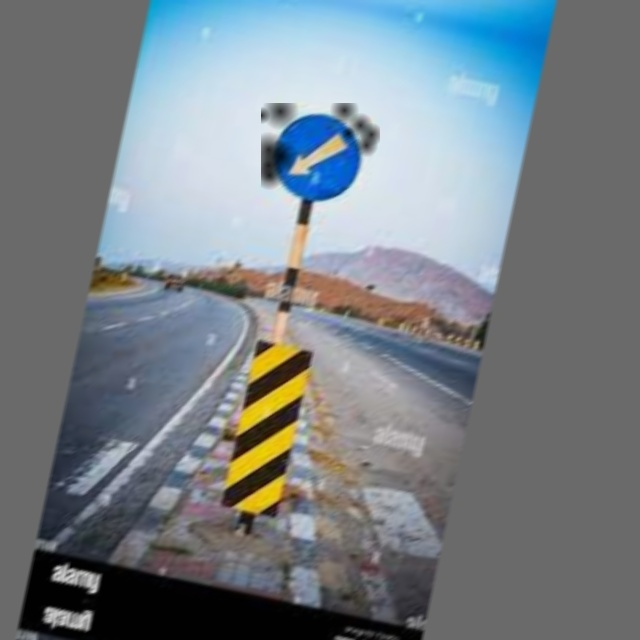Compulsory_Keep_Left: (261, 103, 380, 215)
